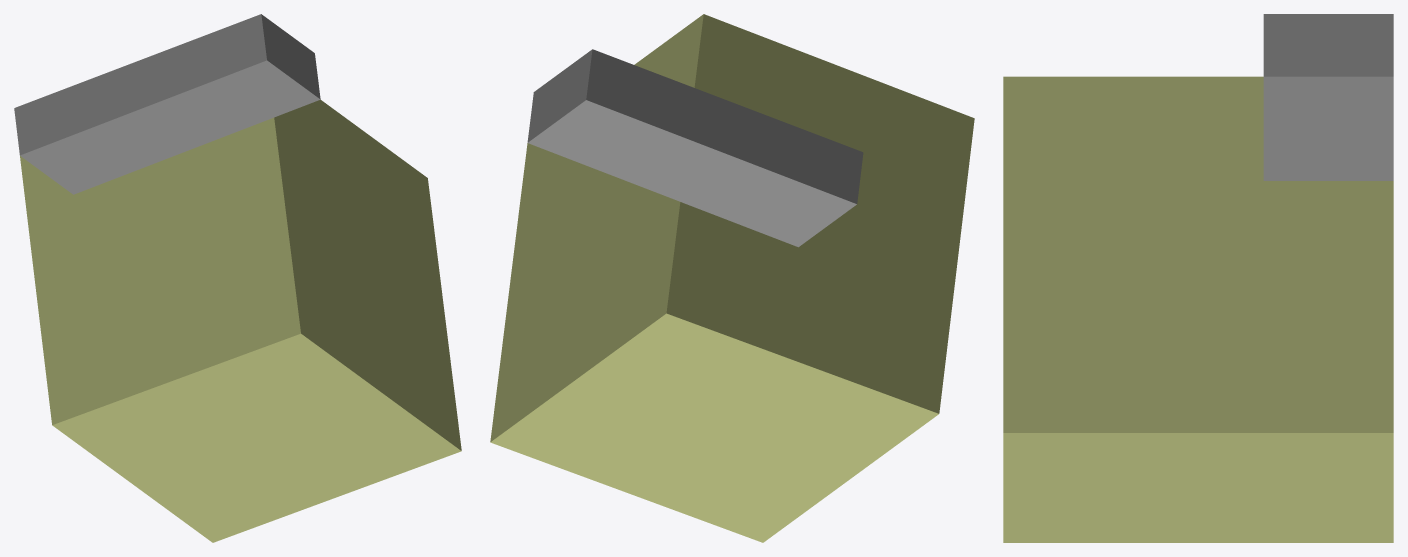
The picture shows the model from 3 angles, left to right: view 1: azimuth 30°, elevation 25°; view 2: azimuth 150°, elevation 25°; view 3: azimuth 270°, elevation 25°; orthographic projection. The views are drawn at different scales.
Parts seen in each view (by area): view 1: 0_1_2_3_3_3_3_0_0_3_2; view 2: 0_1_2_3_3_3_3_0_0_3_2; view 3: 0_1_2_3_3_3_3_0_0_3_2.
Part boxes in pixels (box(x1,y1,x2,y2)): 0_1_2_3_3_3_3_0_0_3_2: box(14, 14, 461, 542); 0_1_2_3_3_3_3_0_0_3_2: box(490, 14, 974, 542); 0_1_2_3_3_3_3_0_0_3_2: box(1003, 14, 1393, 542).
Bounding box in the file's own units: 9.27 × 11.13 × 9.
